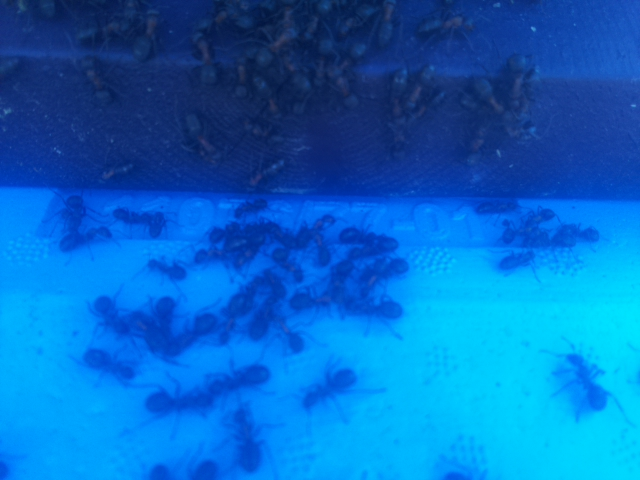ant: (220, 401, 268, 475), (298, 361, 363, 409), (409, 2, 475, 46), (175, 104, 223, 164), (191, 24, 223, 88), (78, 55, 115, 109), (131, 5, 161, 65), (245, 155, 290, 190), (332, 61, 363, 111), (376, 0, 401, 50)
